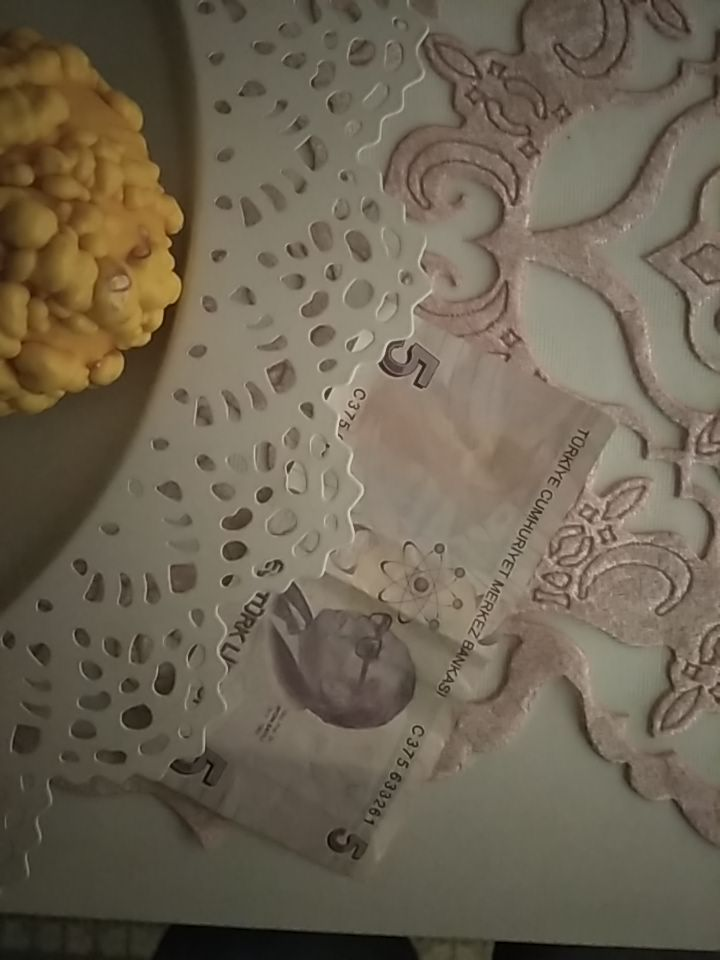5TL: (143, 296, 618, 884)
